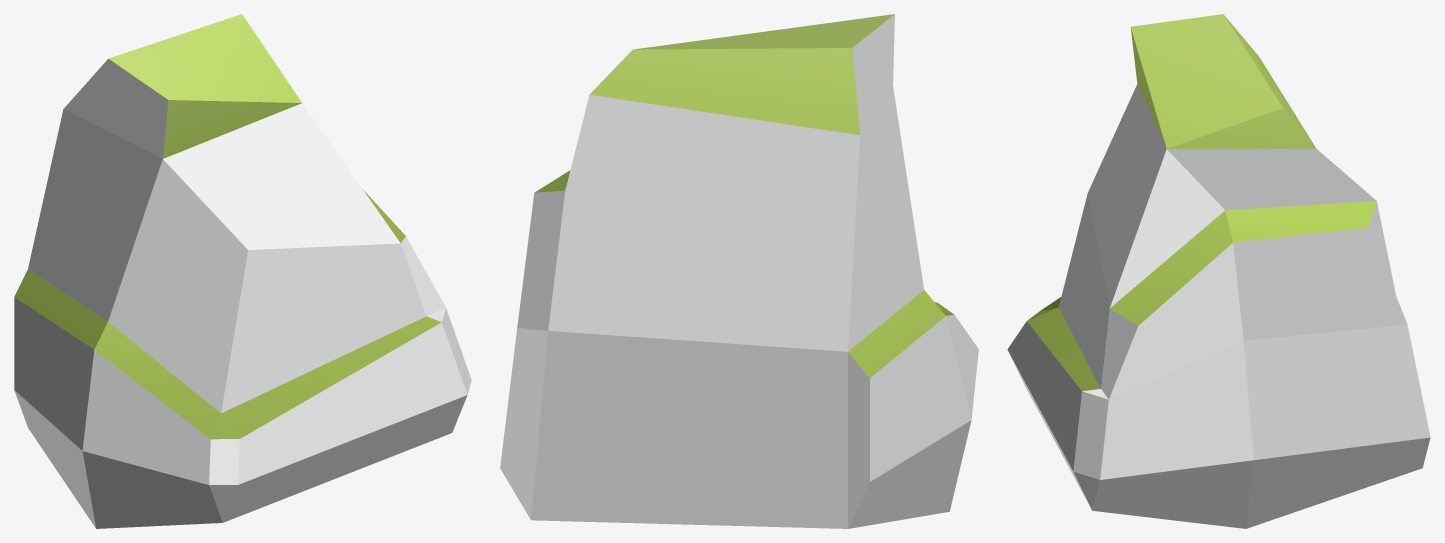
Rendered from RockMoss2.fbx.
3 renders of one model, left to right at view 1: azimuth 30°, elevation 25°; view 2: azimuth 150°, elevation 25°; view 3: azimuth 270°, elevation 25°, orthographic. The views are drawn at different scales.
Visible parts, largest first — view 1: Rock_Moss_2_Cube.021; view 2: Rock_Moss_2_Cube.021; view 3: Rock_Moss_2_Cube.021.
Boxes of the visible parts, x1,y1,x2,y2 form: Rock_Moss_2_Cube.021: (14,14,471,528); Rock_Moss_2_Cube.021: (500,14,978,528); Rock_Moss_2_Cube.021: (1007,14,1430,528).
Bounding box in the file's own units: 61.25 × 69.18 × 65.04.
